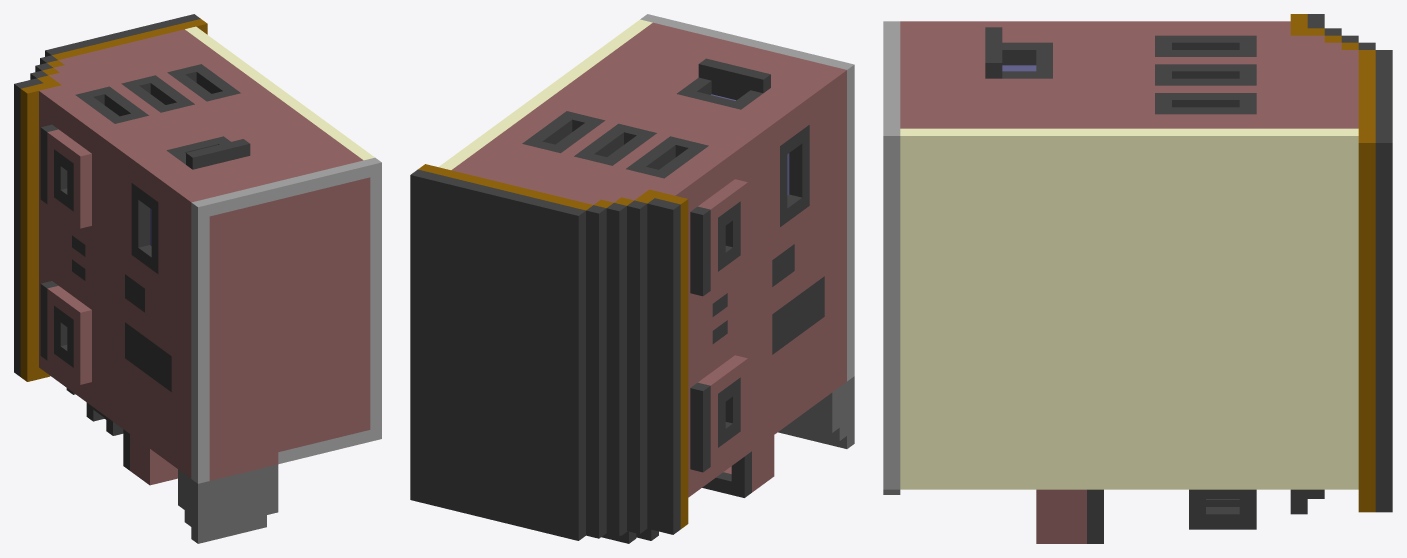
Rendered from yoshida27.fbx.
3 renders of one model, left to right at view 1: azimuth 30°, elevation 25°; view 2: azimuth 150°, elevation 25°; view 3: azimuth 270°, elevation 25°, orthographic. The views are drawn at different scales.
Visible parts, largest first — view 1: Default; view 2: Default; view 3: Default.
Part boxes in pixels (x1=…): Default: x1=14, y1=14, x2=381, y2=543; Default: x1=410, y1=14, x2=854, y2=543; Default: x1=883, y1=14, x2=1392, y2=543.
Size of the model in its own units: 18 by 29 by 30.
Materials: 1 (1 with a texture image).
